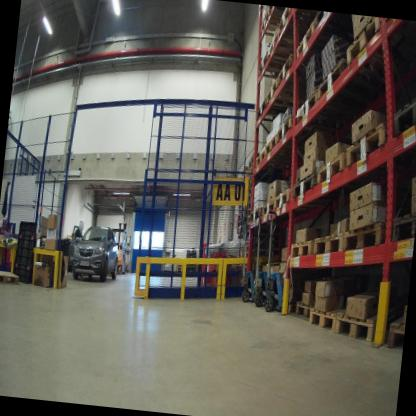forklift: (108, 219, 130, 274)
pallet: (345, 18, 411, 77), (318, 59, 377, 108), (345, 121, 389, 165), (342, 224, 386, 257), (336, 305, 374, 343), (297, 89, 338, 124), (294, 20, 324, 65), (395, 84, 416, 139), (313, 230, 345, 261), (317, 150, 348, 181), (273, 116, 301, 148), (291, 173, 321, 201), (308, 306, 338, 332), (390, 211, 416, 240), (271, 181, 294, 213), (276, 56, 301, 84), (255, 94, 277, 118), (390, 313, 404, 350), (267, 78, 288, 102), (291, 237, 312, 260), (0, 267, 19, 286), (295, 298, 312, 319), (256, 146, 271, 169), (263, 139, 280, 156), (264, 199, 275, 217), (251, 207, 266, 220)
pallet_truck: (257, 211, 292, 314), (246, 218, 270, 312), (236, 221, 258, 305)
small_load_carrier: (207, 267, 233, 292), (197, 270, 210, 289)
